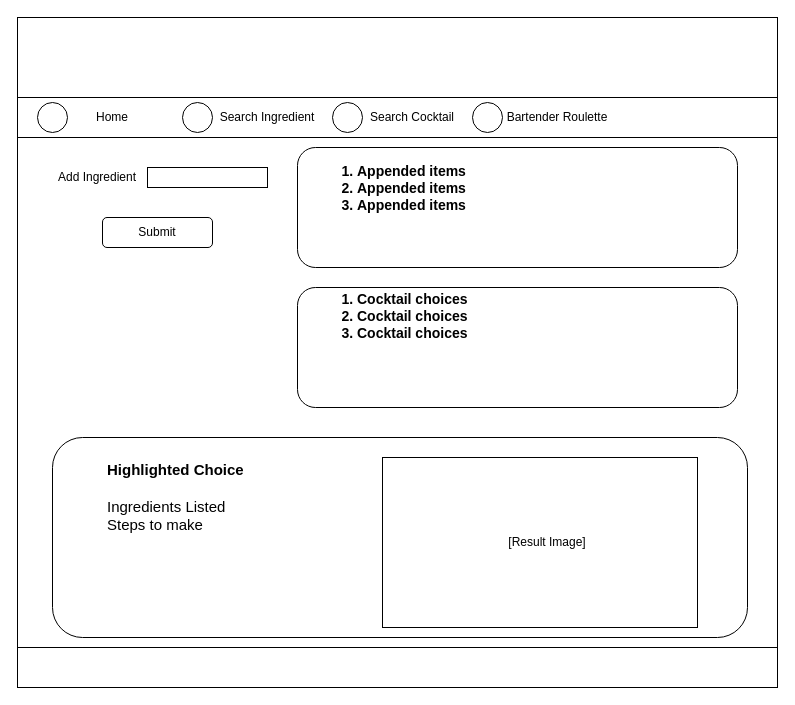
This 795x705 diagram has some shape labels left out. The shapes that lost their labels are listed below. From the top down, each one's box as (x1, y1, x2, y2) in pixels, then its label:
(16, 16, 778, 98): Cute Ingredient Name
(16, 646, 778, 688): About
